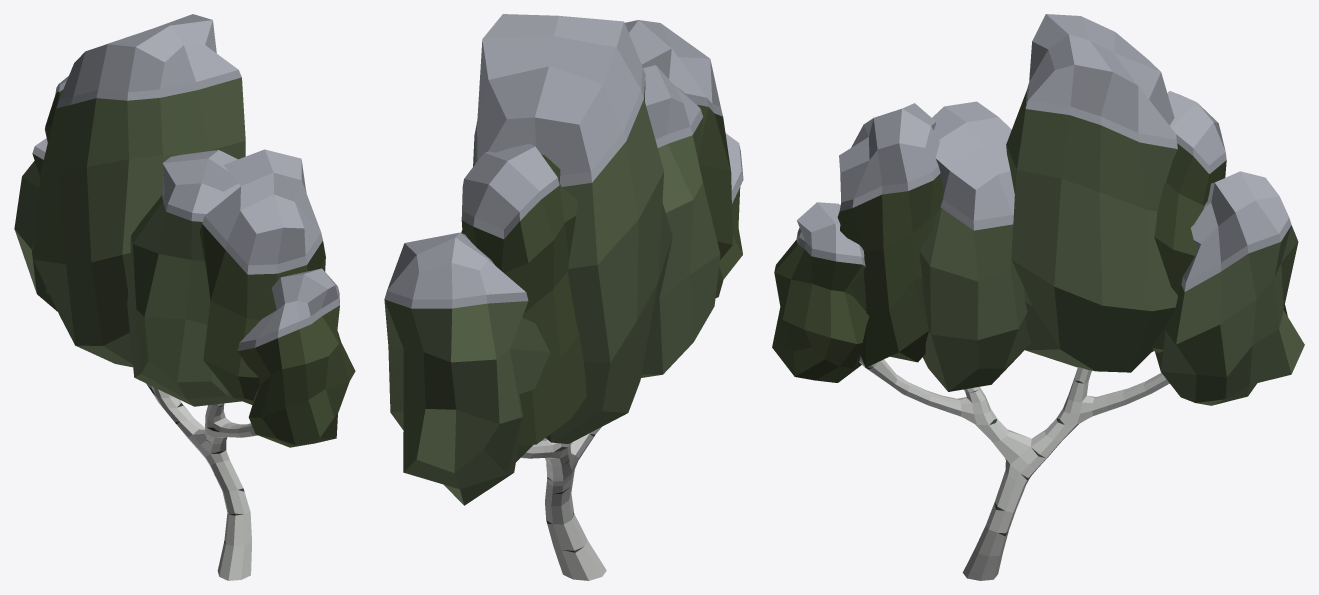
Rendered from BirchTree_Snow_4.glb.
The picture shows the model from 3 angles, left to right: view 1: azimuth 30°, elevation 25°; view 2: azimuth 150°, elevation 25°; view 3: azimuth 270°, elevation 25°; orthographic projection. The views are drawn at different scales.
Visible parts, largest first — view 1: BirchTree_Snow_4_Cube.119; view 2: BirchTree_Snow_4_Cube.119; view 3: BirchTree_Snow_4_Cube.119.
Part boxes in pixels (x1,y1,x2,y2): BirchTree_Snow_4_Cube.119: (14,14,355,580); BirchTree_Snow_4_Cube.119: (384,14,743,580); BirchTree_Snow_4_Cube.119: (772,14,1304,580).
Size of the model in its own units: 1.15 by 3.6 by 3.29.
1 material, 1 textured.
